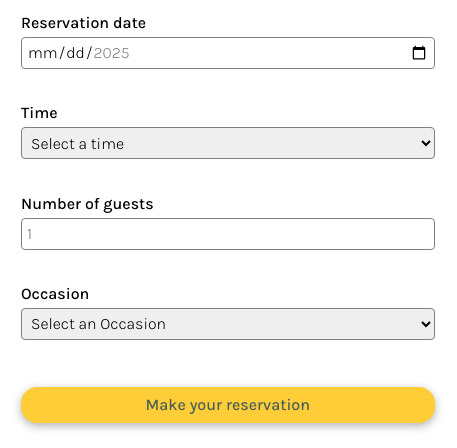
Test: React fields validation with invalid values › Guests field: Displays error when guests is below 1
Type "0" into the number field labelled "Number of guests".
click(228, 234); type("0")  # box left=21, top=218, right=434, bottom=250
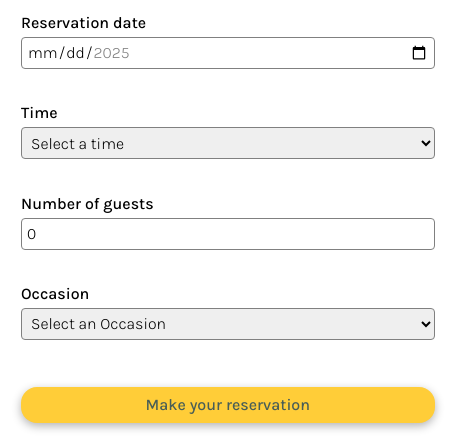
Click the button "Make your reservation".
click(228, 405)  # box left=21, top=387, right=434, bottom=423
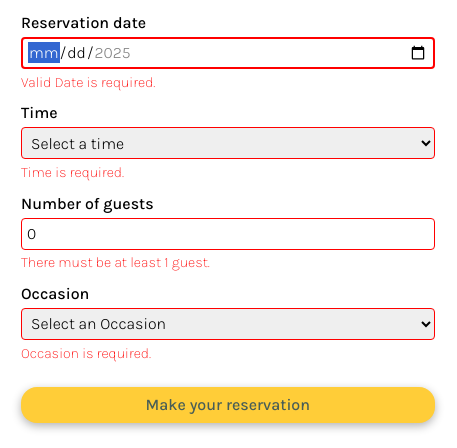
Now the text "There must be at least 1 guest." is shown, box left=21, top=254, right=210, bottom=271
